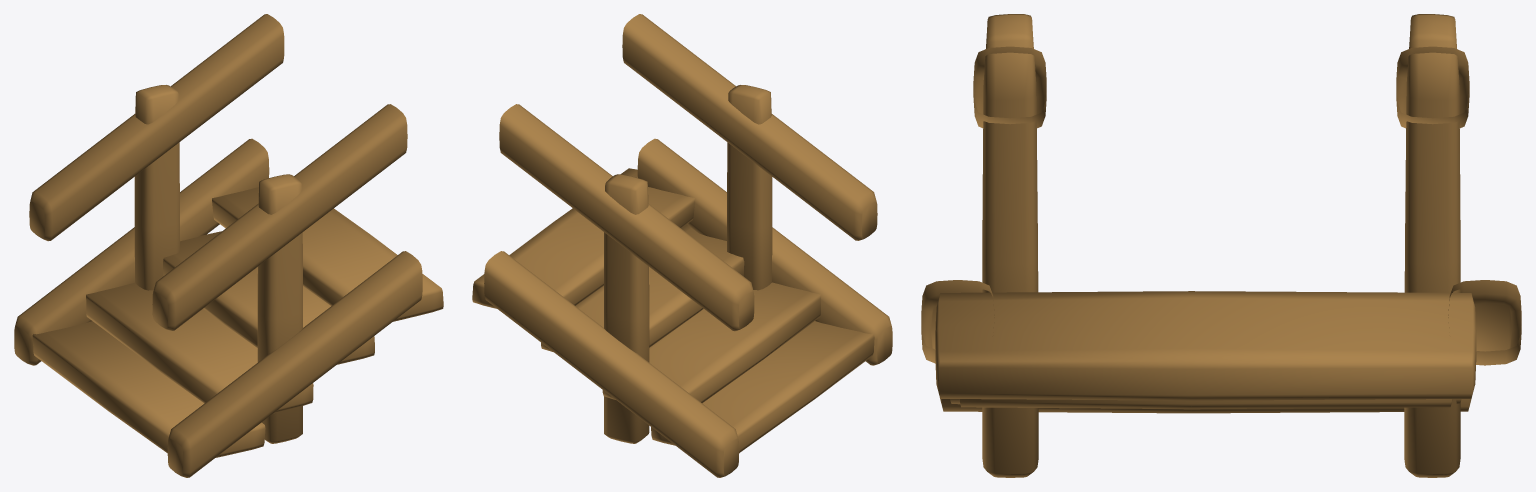
Rendered from Stairs_Modular_Start.glb.
3 renders of one model, left to right at view 1: azimuth 30°, elevation 25°; view 2: azimuth 150°, elevation 25°; view 3: azimuth 270°, elevation 25°, orthographic. The views are drawn at different scales.
Parts seen in each view (by area): view 1: Stairs_Modular_Start; view 2: Stairs_Modular_Start; view 3: Stairs_Modular_Start.
Part boxes in pixels (x1=…): Stairs_Modular_Start: x1=14, y1=14, x2=443, y2=477; Stairs_Modular_Start: x1=472, y1=14, x2=892, y2=477; Stairs_Modular_Start: x1=921, y1=14, x2=1521, y2=477.
Bounding box in the file's own units: 2.24 × 2.43 × 2.56.
